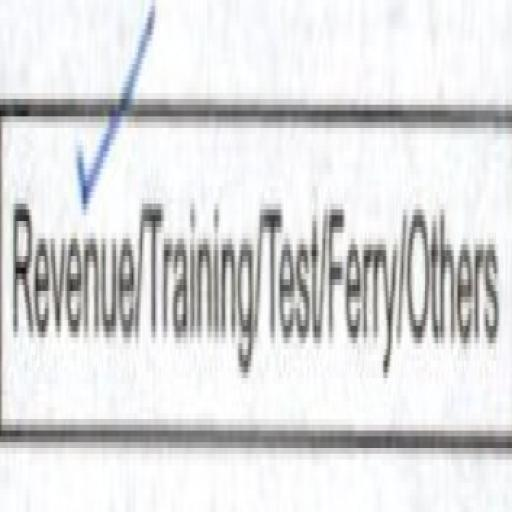check: (1, 4, 141, 452)
